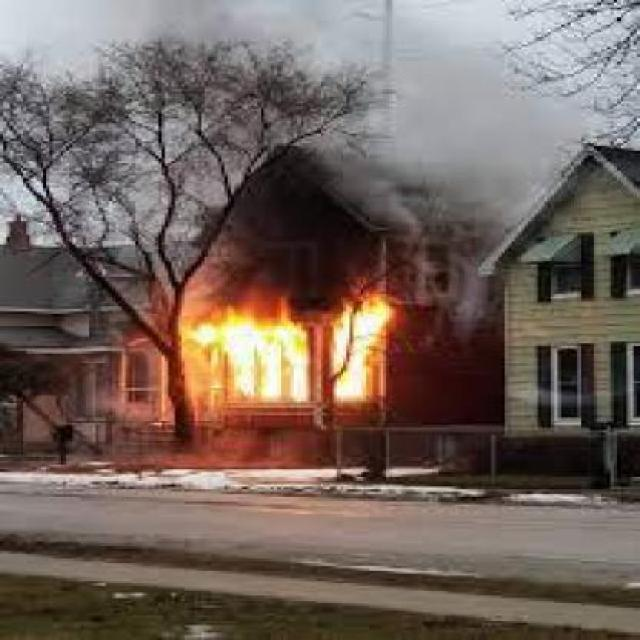Fire: (179, 286, 401, 414)
Smoke: (382, 42, 530, 242), (258, 142, 412, 272)
